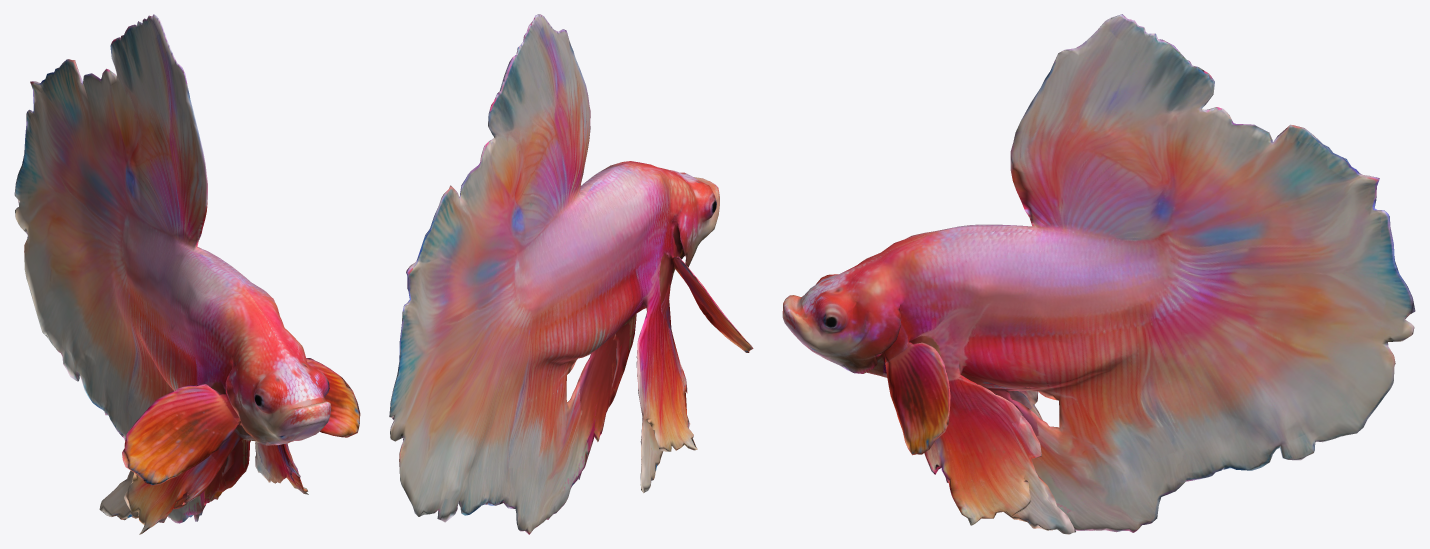
File: cupang_0604062331_texture.glb
The picture shows the model from 3 angles, left to right: view 1: azimuth 30°, elevation 25°; view 2: azimuth 150°, elevation 25°; view 3: azimuth 270°, elevation 25°; orthographic projection. The views are drawn at different scales.
Bounding box in the file's own units: 0.8956 × 1.81 × 2.
1 material, 1 textured.
